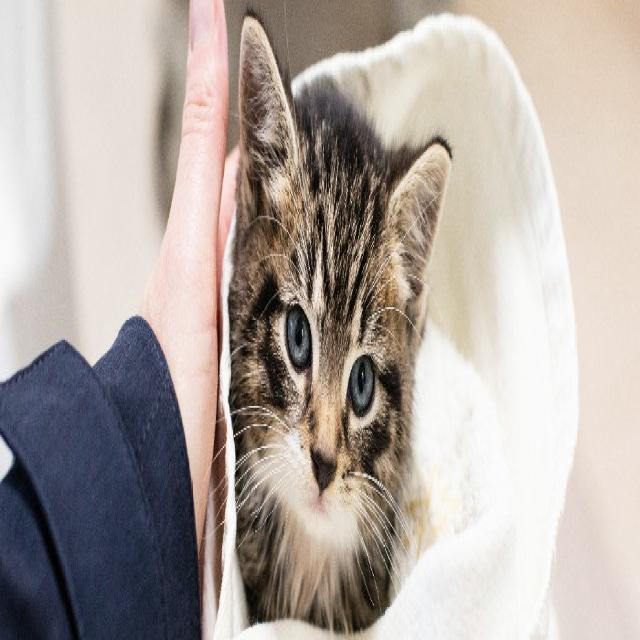cat: (228, 11, 451, 631)
